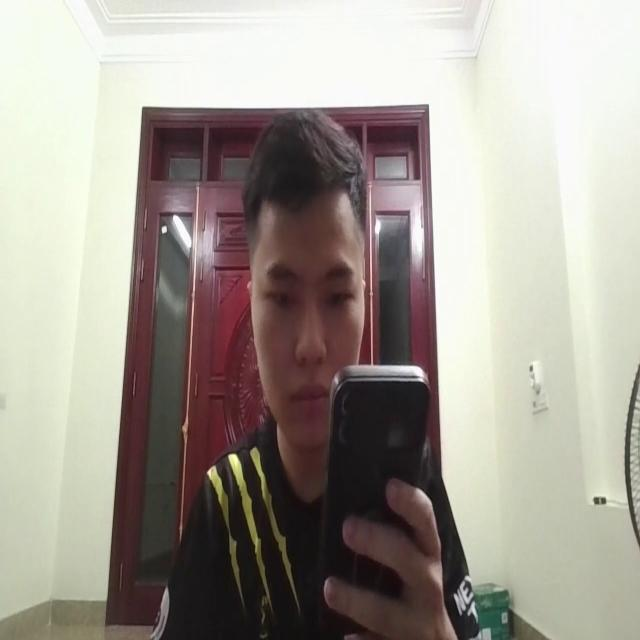phone: (327, 349, 430, 618)
student: (193, 103, 444, 640)
